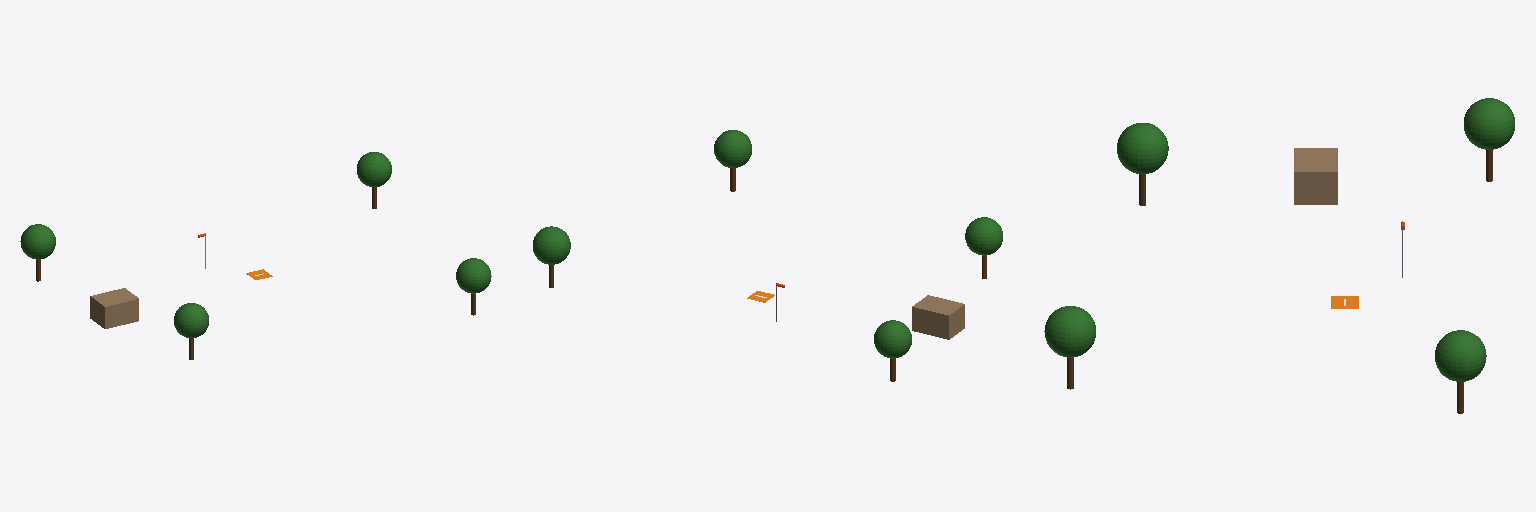
robot.urdf — open_field:
<?xml version="1.0"?>
<!--
  An open field for the drone samples (robot-classes.md §5): the loaders' 50 m ground slab with a
  painted landing pad at the origin (visual only, flush with the ground), a windsock on a pole
  4 m from the pad, four trees (their crowns soft: TreeAPI_1 in open_field.usda, ground.md "Trees"; that file keeps only
  the trunks' colliders, the realistic view drawing the trees) and a shed, all more than 15 m from the pad so that the 10 m
  mission square at 5 m (tools/ci/px4_mission.sh) flies clear of them, all fixed to the ground
  (root link "world"). Primitives only, so it needs no mesh files.
-->
<robot name="open_field">
  <material name="pad"><color rgba="0.95 0.55 0.15 1"/></material>
  <material name="mark"><color rgba="0.96 0.96 0.94 1"/></material>
  <material name="metal"><color rgba="0.62 0.64 0.66 1"/></material>
  <material name="windsock"><color rgba="0.93 0.33 0.12 1"/></material>
  <material name="bark"><color rgba="0.40 0.28 0.18 1"/></material>
  <material name="leaves"><color rgba="0.24 0.48 0.22 1"/></material>
  <material name="shed"><color rgba="0.62 0.52 0.40 1"/></material>
  <link name="world"/>
  <link name="landing_pad">
    <visual>
      <geometry><box size="2 2 0.005"/></geometry>
      <material name="pad"/>
    </visual>
  </link>
  <joint name="landing_pad_fixed" type="fixed">
    <parent link="world"/>
    <child link="landing_pad"/>
    <origin xyz="0 0 0.0025"/>
  </joint>
  <link name="landing_pad_mark">
    <visual>
      <geometry><box size="1.2 0.2 0.006"/></geometry>
      <material name="mark"/>
    </visual>
  </link>
  <joint name="landing_pad_mark_fixed" type="fixed">
    <parent link="world"/>
    <child link="landing_pad_mark"/>
    <origin xyz="0 0 0.003"/>
  </joint>
  <link name="windsock_pole">
    <visual>
      <geometry><cylinder radius="0.04" length="4"/></geometry>
      <material name="metal"/>
    </visual>
    <collision>
      <geometry><cylinder radius="0.04" length="4"/></geometry>
    </collision>
  </link>
  <joint name="windsock_pole_fixed" type="fixed">
    <parent link="world"/>
    <child link="windsock_pole"/>
    <origin xyz="-4 4 2"/>
  </joint>
  <link name="windsock">
    <visual>
      <geometry><cylinder radius="0.15" length="0.8"/></geometry>
      <material name="windsock"/>
    </visual>
  </link>
  <joint name="windsock_fixed" type="fixed">
    <parent link="world"/>
    <child link="windsock"/>
    <origin xyz="-4.4 4 3.8" rpy="0 1.5707963 0"/>
  </joint>
  <link name="tree_1_trunk">
    <visual>
      <geometry><cylinder radius="0.25" length="3"/></geometry>
      <material name="bark"/>
    </visual>
    <collision>
      <geometry><cylinder radius="0.25" length="3"/></geometry>
    </collision>
  </link>
  <joint name="tree_1_trunk_fixed" type="fixed">
    <parent link="world"/>
    <child link="tree_1_trunk"/>
    <origin xyz="18 8 1.5"/>
  </joint>
  <link name="tree_1_crown">
    <visual>
      <geometry><sphere radius="1.8"/></geometry>
      <material name="leaves"/>
    </visual>
  </link>
  <joint name="tree_1_crown_fixed" type="fixed">
    <parent link="world"/>
    <child link="tree_1_crown"/>
    <origin xyz="18 8 4.3"/>
  </joint>
  <link name="tree_2_trunk">
    <visual>
      <geometry><cylinder radius="0.25" length="3"/></geometry>
      <material name="bark"/>
    </visual>
    <collision>
      <geometry><cylinder radius="0.25" length="3"/></geometry>
    </collision>
  </link>
  <joint name="tree_2_trunk_fixed" type="fixed">
    <parent link="world"/>
    <child link="tree_2_trunk"/>
    <origin xyz="-16 -14 1.5"/>
  </joint>
  <link name="tree_2_crown">
    <visual>
      <geometry><sphere radius="1.8"/></geometry>
      <material name="leaves"/>
    </visual>
  </link>
  <joint name="tree_2_crown_fixed" type="fixed">
    <parent link="world"/>
    <child link="tree_2_crown"/>
    <origin xyz="-16 -14 4.3"/>
  </joint>
  <link name="tree_3_trunk">
    <visual>
      <geometry><cylinder radius="0.25" length="3"/></geometry>
      <material name="bark"/>
    </visual>
    <collision>
      <geometry><cylinder radius="0.25" length="3"/></geometry>
    </collision>
  </link>
  <joint name="tree_3_trunk_fixed" type="fixed">
    <parent link="world"/>
    <child link="tree_3_trunk"/>
    <origin xyz="14 -19 1.5"/>
  </joint>
  <link name="tree_3_crown">
    <visual>
      <geometry><sphere radius="1.8"/></geometry>
      <material name="leaves"/>
    </visual>
  </link>
  <joint name="tree_3_crown_fixed" type="fixed">
    <parent link="world"/>
    <child link="tree_3_crown"/>
    <origin xyz="14 -19 4.3"/>
  </joint>
  <link name="tree_4_trunk">
    <visual>
      <geometry><cylinder radius="0.25" length="3"/></geometry>
      <material name="bark"/>
    </visual>
    <collision>
      <geometry><cylinder radius="0.25" length="3"/></geometry>
    </collision>
  </link>
  <joint name="tree_4_trunk_fixed" type="fixed">
    <parent link="world"/>
    <child link="tree_4_trunk"/>
    <origin xyz="-20 10 1.5"/>
  </joint>
  <link name="tree_4_crown">
    <visual>
      <geometry><sphere radius="1.8"/></geometry>
      <material name="leaves"/>
    </visual>
  </link>
  <joint name="tree_4_crown_fixed" type="fixed">
    <parent link="world"/>
    <child link="tree_4_crown"/>
    <origin xyz="-20 10 4.3"/>
  </joint>
  <link name="shed">
    <visual>
      <geometry><box size="4 3 2.5"/></geometry>
      <material name="shed"/>
    </visual>
    <collision>
      <geometry><box size="4 3 2.5"/></geometry>
    </collision>
  </link>
  <joint name="shed_fixed" type="fixed">
    <parent link="world"/>
    <child link="shed"/>
    <origin xyz="-18 -2 1.25"/>
  </joint>
</robot>

--- Render facts (derived) ---
The picture shows the robot from 3 angles, left to right: view 1: azimuth 30°, elevation 25°; view 2: azimuth 150°, elevation 25°; view 3: azimuth 270°, elevation 25°; orthographic projection.
Model open_field with 14 links and 13 joints (13 fixed), rooted at world, posed all joints at 0.
Visible links, largest first — view 1: shed, tree_4_crown, tree_3_crown, tree_2_crown, tree_1_crown; view 2: shed, tree_1_crown, tree_3_crown, tree_4_crown, tree_2_crown; view 3: shed, tree_4_crown, tree_1_crown, tree_2_crown, tree_3_crown.
Link boxes in pixels (box(x1,y1,x2,y2)): shed: box(90, 288, 138, 328); tree_4_crown: box(20, 224, 55, 259); tree_3_crown: box(456, 258, 491, 293); tree_2_crown: box(174, 303, 208, 337); tree_1_crown: box(357, 152, 391, 186); shed: box(912, 295, 964, 339); tree_1_crown: box(533, 226, 570, 264); tree_3_crown: box(714, 130, 751, 167); tree_4_crown: box(874, 320, 911, 358); tree_2_crown: box(965, 217, 1002, 255); shed: box(1294, 148, 1337, 204); tree_4_crown: box(1464, 98, 1514, 149); tree_1_crown: box(1435, 330, 1486, 381); tree_2_crown: box(1117, 123, 1168, 173); tree_3_crown: box(1044, 306, 1095, 357).
Bounding box of the posed robot: 41.6 × 32.6 × 6.1 m (x, y, z).
Geometry: primitives only (box / cylinder / sphere), no mesh files.
